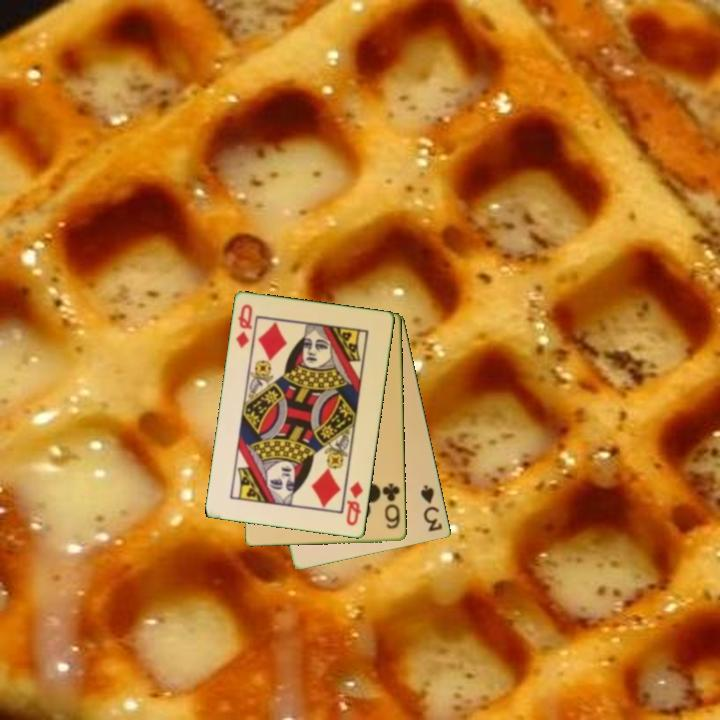3s: (417, 481, 445, 535)
6c: (379, 480, 403, 532)
Qd: (343, 478, 367, 529), (233, 301, 256, 351)
